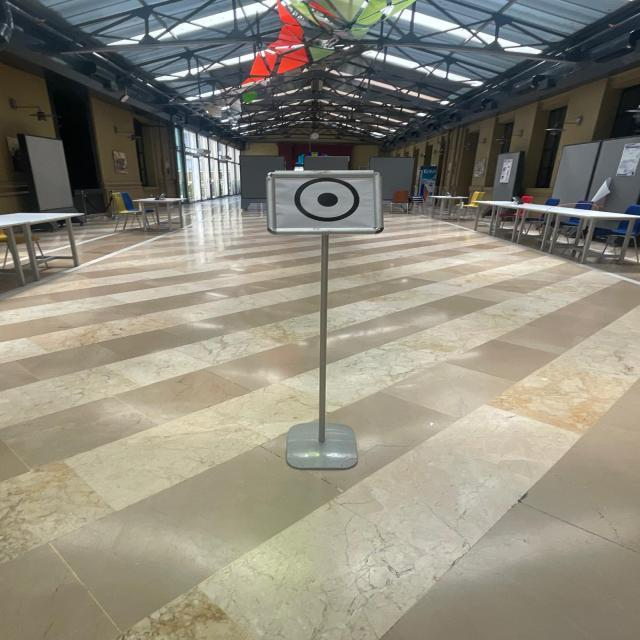Target: (252, 153, 403, 247)
inner: (308, 186, 344, 213)
